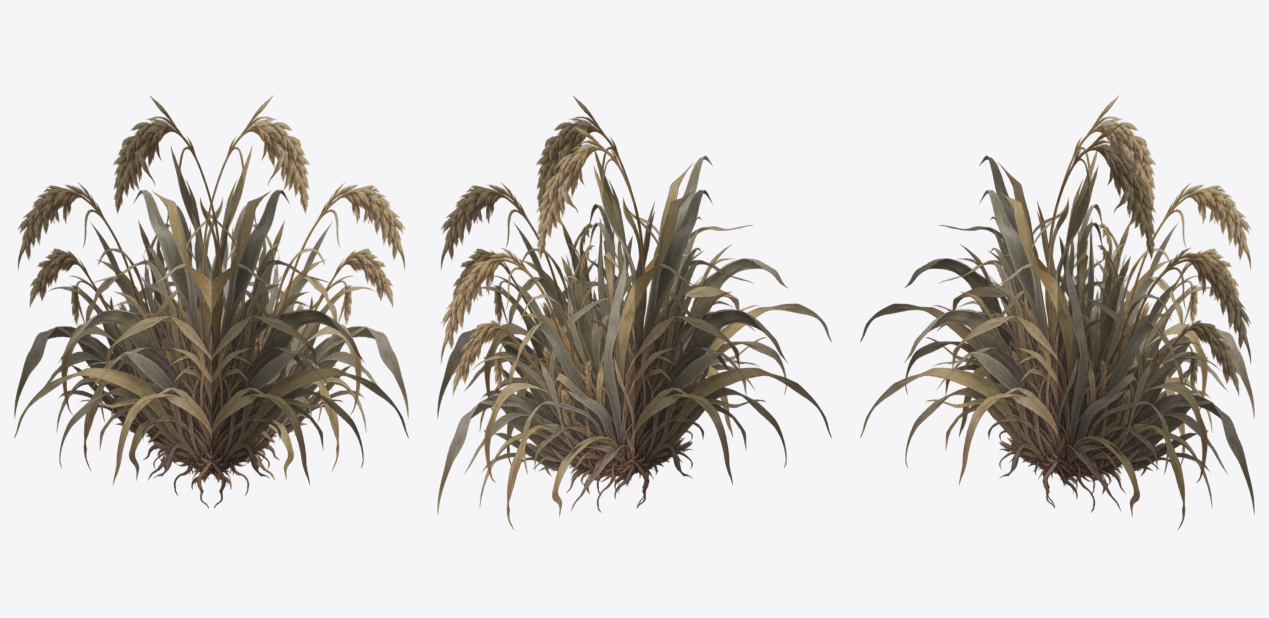
File: v4-shrine-scatter-dry-grass.glb
3 views of the same model, side by side, from view 1: azimuth 30°, elevation 25°; view 2: azimuth 150°, elevation 25°; view 3: azimuth 270°, elevation 25° (orthographic).
Visible parts, largest first — view 1: v4-shrine-scatter-dry-grass; view 2: v4-shrine-scatter-dry-grass; view 3: v4-shrine-scatter-dry-grass.
Part boxes in pixels (left/top/right/bottom): v4-shrine-scatter-dry-grass: left=14, top=96, right=408, bottom=508; v4-shrine-scatter-dry-grass: left=437, top=96, right=831, bottom=529; v4-shrine-scatter-dry-grass: left=860, top=96, right=1254, bottom=529.
Size of the model in its own units: 0.8314 by 0.8 by 0.72.
1 material, 1 textured.
